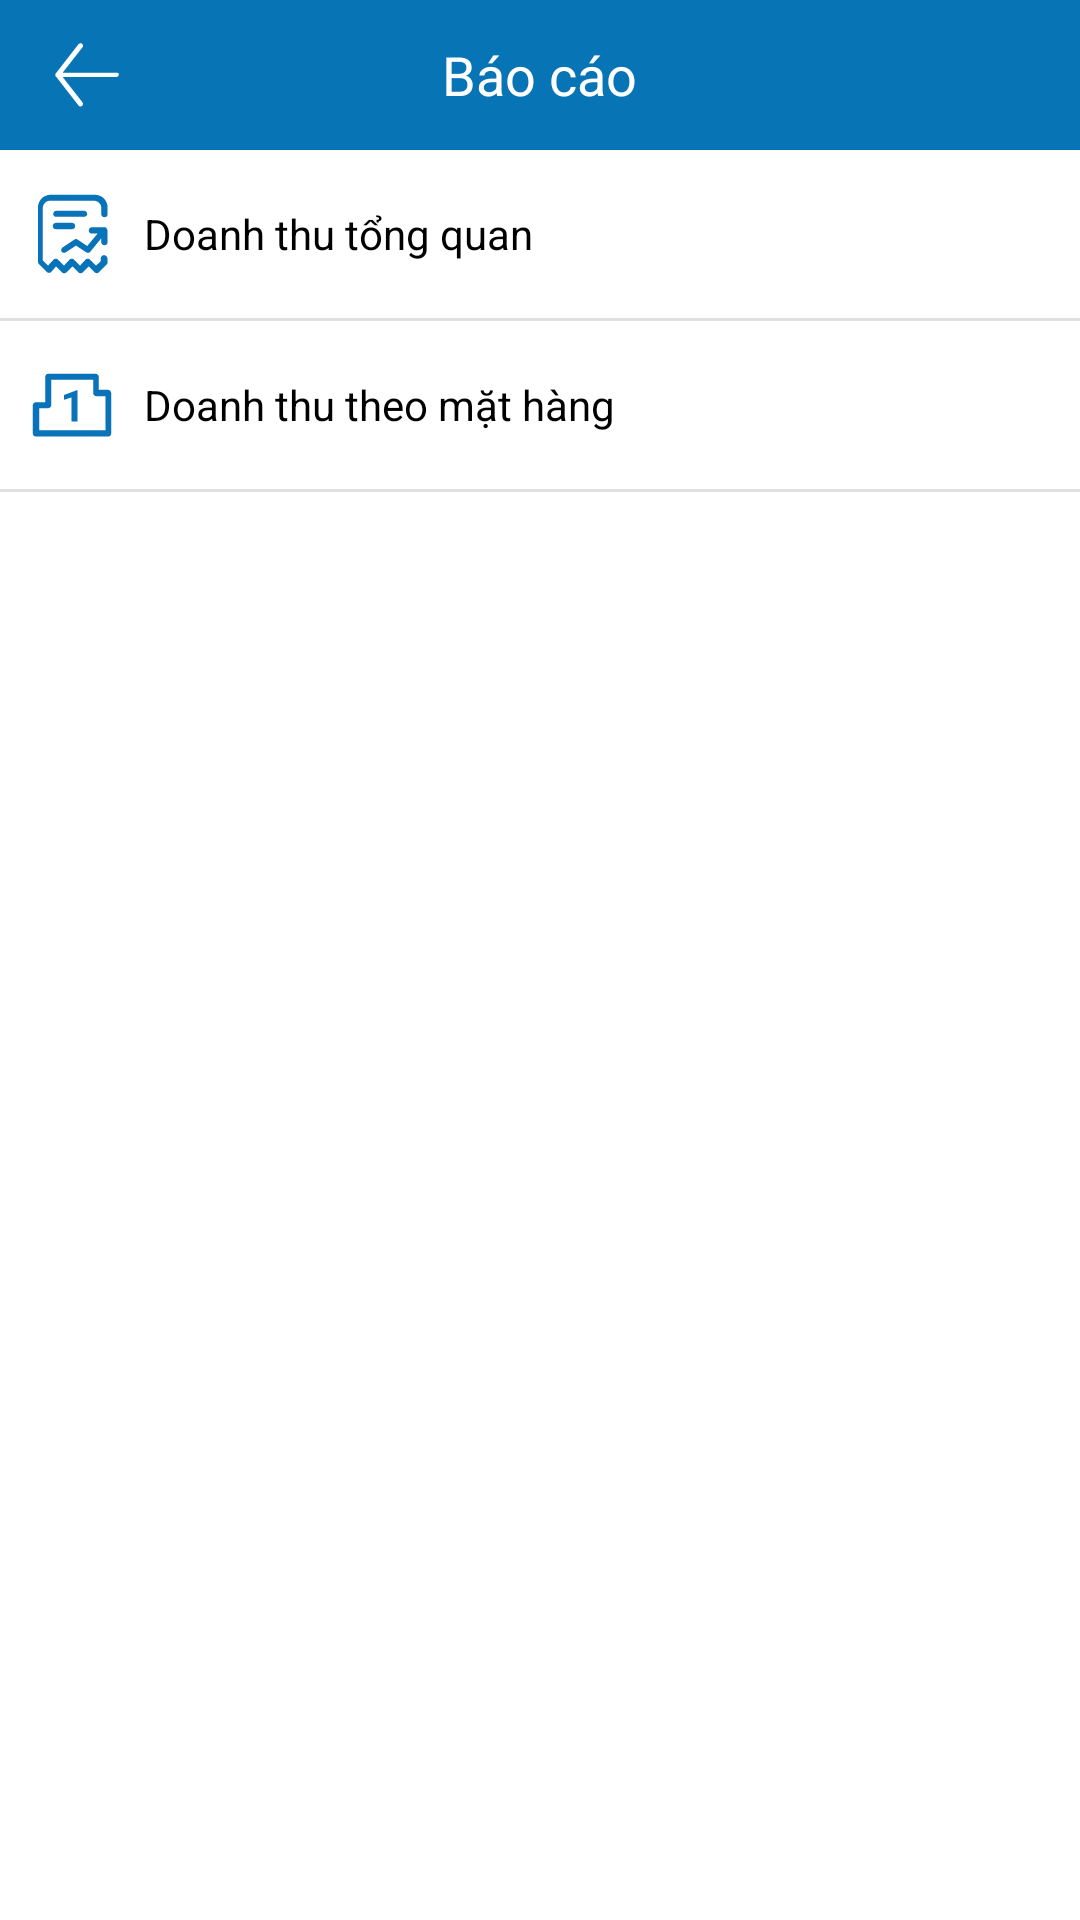

Screen size 1080×1920. Icon name, then its box in pixels as (x1, y1, x2, y2):
back: (55, 43, 119, 107)
revenue: (38, 194, 108, 274)
